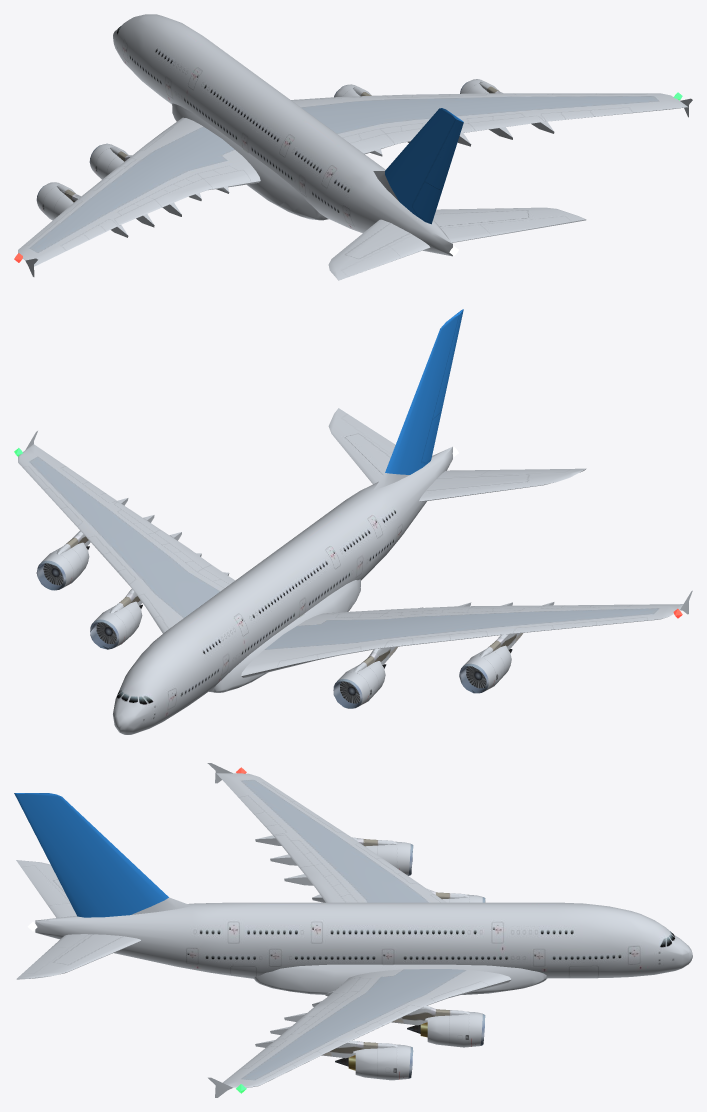
3 renders of one model, top to bottom at view 1: azimuth 30°, elevation 25°; view 2: azimuth 150°, elevation 25°; view 3: azimuth 270°, elevation 25°, orthographic.
Visible parts, largest first — view 1: a380; view 2: a380; view 3: a380.
Boxes of the visible parts, <box> form: a380: <box>14,14,692,280</box>; a380: <box>14,309,692,734</box>; a380: <box>14,763,692,1097</box>.
Bounding box in the file's own units: 81.37 × 22.98 × 72.67.
5 materials, 2 textured.
